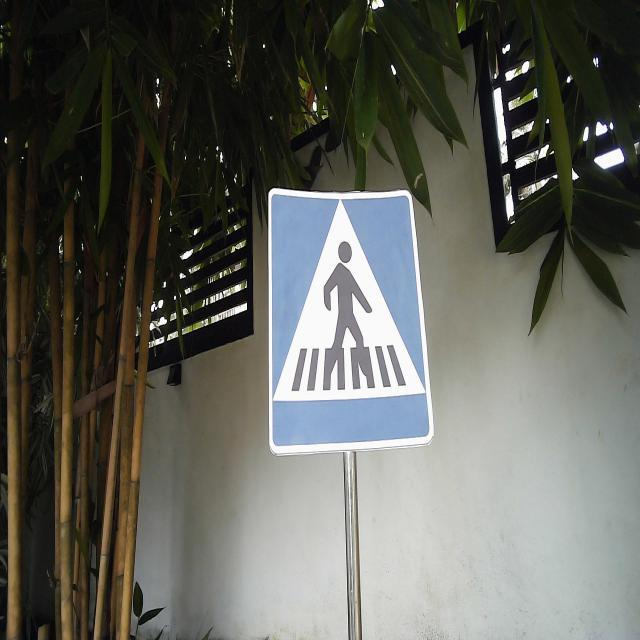crosswalk_sign: (266, 185, 436, 458)
